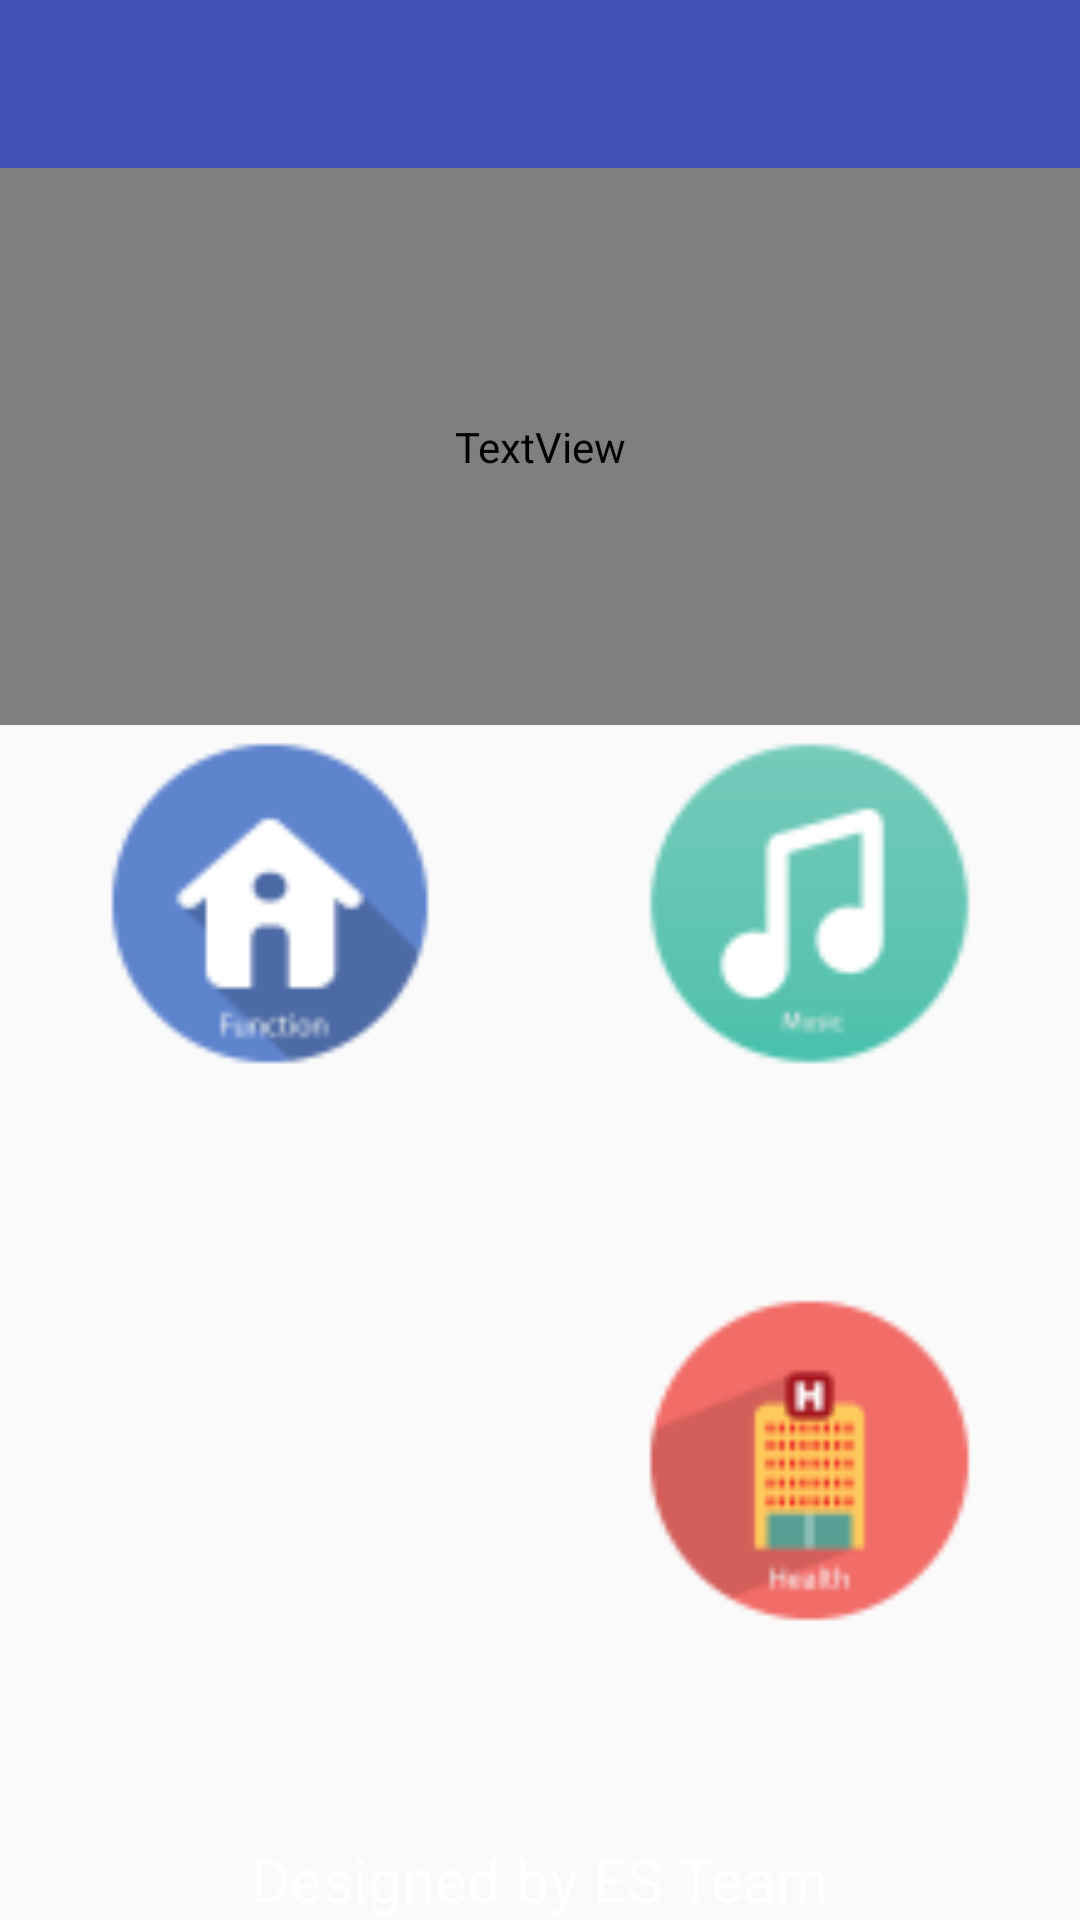

Where to tap for icons on this 1080 x 1920 app screen, as point (x, y):
home: point (270, 903)
hospital: point (809, 1460)
